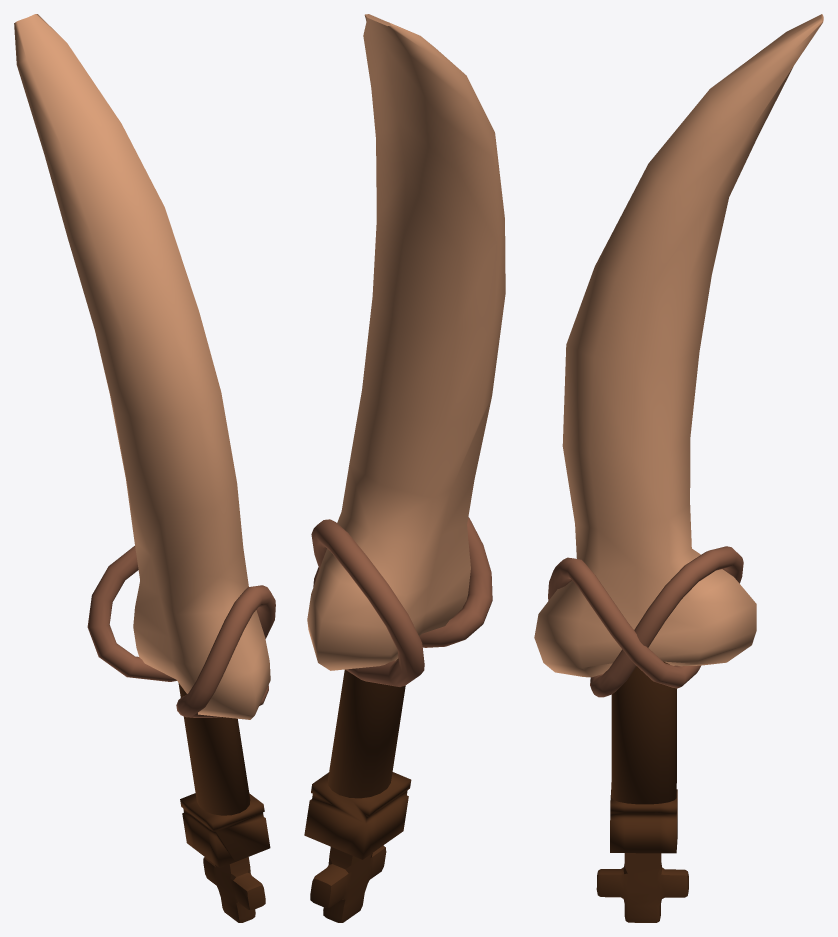
File: dagahueso.fbx
3 views of the same model, side by side, from view 1: azimuth 30°, elevation 25°; view 2: azimuth 150°, elevation 25°; view 3: azimuth 270°, elevation 25° (orthographic). The views are drawn at different scales.
Visible parts, largest first — view 1: ARMA; view 2: ARMA; view 3: ARMA.
Part boxes in pixels (x1,y1,x2,y2): ARMA: (14, 14, 275, 922); ARMA: (304, 14, 505, 922); ARMA: (534, 14, 823, 922).
Bounding box in the file's own units: 43.84 × 207 × 63.96.
